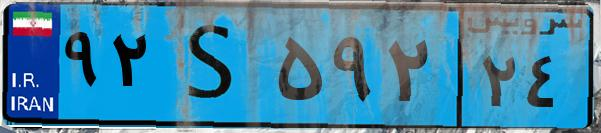2: (385, 28, 445, 110), (475, 38, 525, 113), (110, 28, 158, 98)
4: (525, 38, 570, 115)
5: (270, 28, 330, 110)
9: (330, 28, 385, 110), (57, 26, 110, 100)
S: (158, 12, 270, 120)
